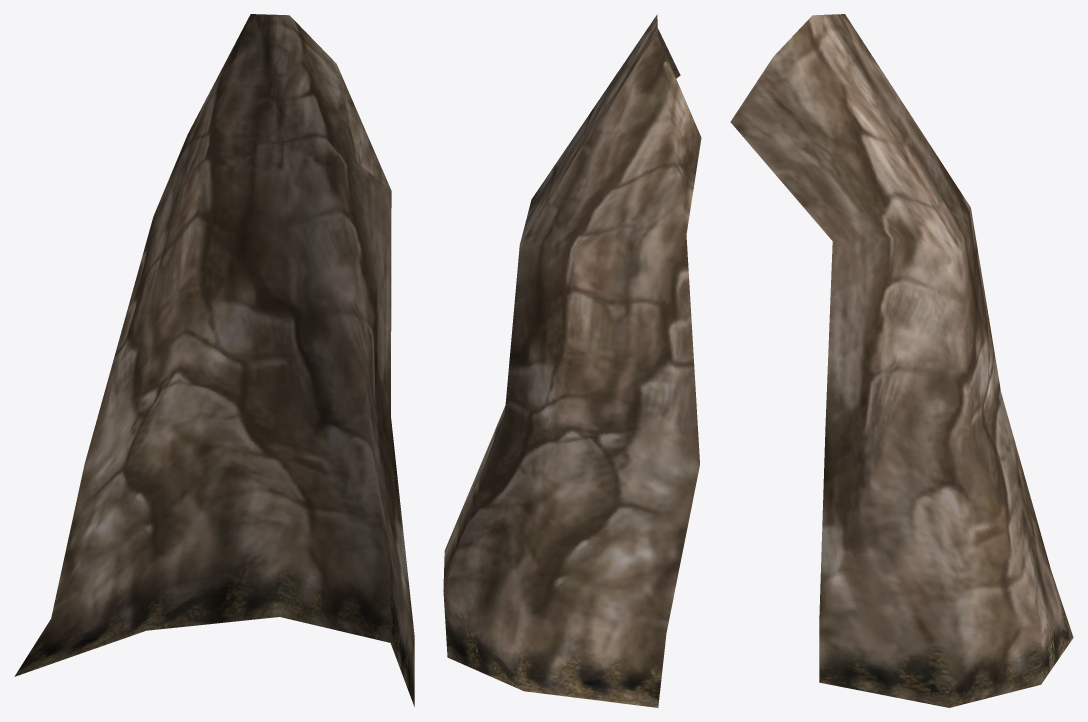
Rendered from OVERHILL_A_01_ROCK_SLAB_02.fbx.
3 renders of one model, left to right at view 1: azimuth 30°, elevation 25°; view 2: azimuth 150°, elevation 25°; view 3: azimuth 270°, elevation 25°, orthographic. The views are drawn at different scales.
Visible parts, largest first — view 1: OVERHILL_A_01_ROCK_SLAB_02; view 2: OVERHILL_A_01_ROCK_SLAB_02; view 3: OVERHILL_A_01_ROCK_SLAB_02.
Part boxes in pixels (x1,y1,x2,y2): OVERHILL_A_01_ROCK_SLAB_02: [14, 14, 414, 706]; OVERHILL_A_01_ROCK_SLAB_02: [443, 14, 701, 707]; OVERHILL_A_01_ROCK_SLAB_02: [730, 14, 1073, 707].
Bounding box in the file's own units: 28041 × 61206 × 30824.
Materials: 2 (2 with a texture image).
